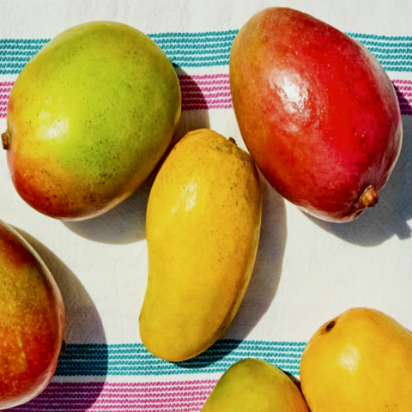mango: (216, 0, 412, 260), (0, 5, 189, 261), (130, 108, 273, 378)
